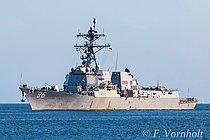MIL_Ship: (19, 16, 198, 111)
